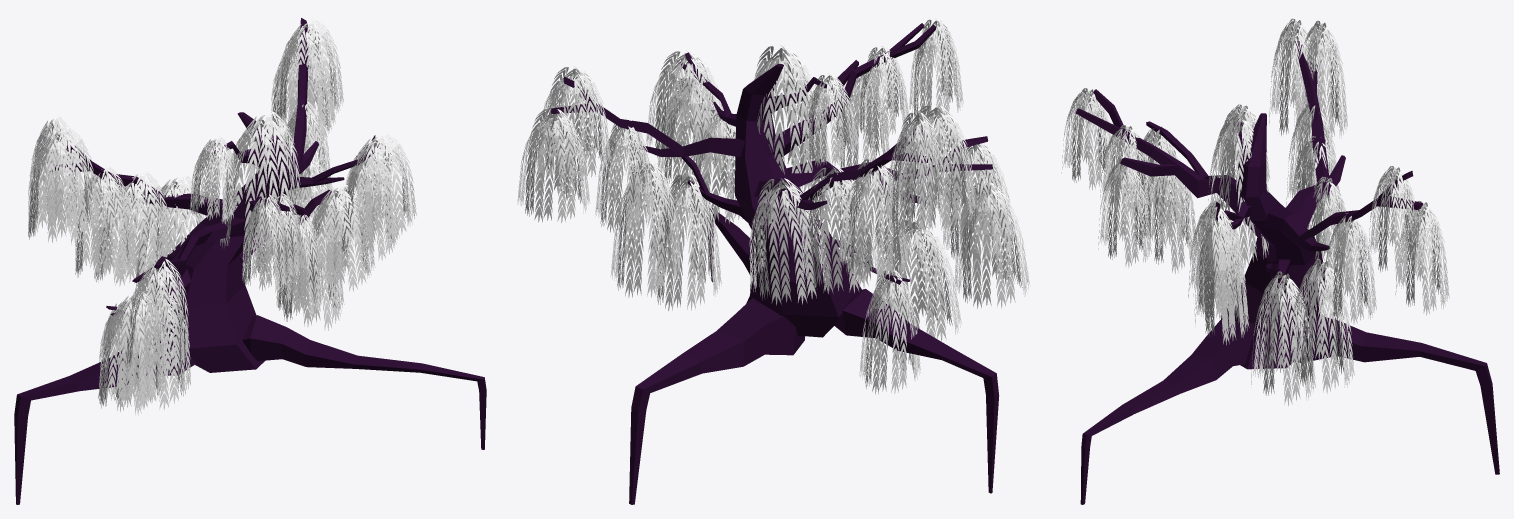
The model's file is Willow.fbx.
3 renders of one model, left to right at view 1: azimuth 30°, elevation 25°; view 2: azimuth 150°, elevation 25°; view 3: azimuth 270°, elevation 25°, orthographic. The views are drawn at different scales.
Visible parts, largest first — view 1: Plane.009, DarkTree3.001; view 2: Plane.009, DarkTree3.001; view 3: Plane.009, DarkTree3.001.
Part boxes in pixels (<box>): Plane.009: <box>28,19,416,415</box>; DarkTree3.001: <box>14,18,486,504</box>; Plane.009: <box>517,18,1030,394</box>; DarkTree3.001: <box>551,23,999,504</box>; Plane.009: <box>1061,18,1449,406</box>; DarkTree3.001: <box>1075,41,1499,504</box>.
Bounding box in the file's own units: 3972 × 3563 × 3825.
